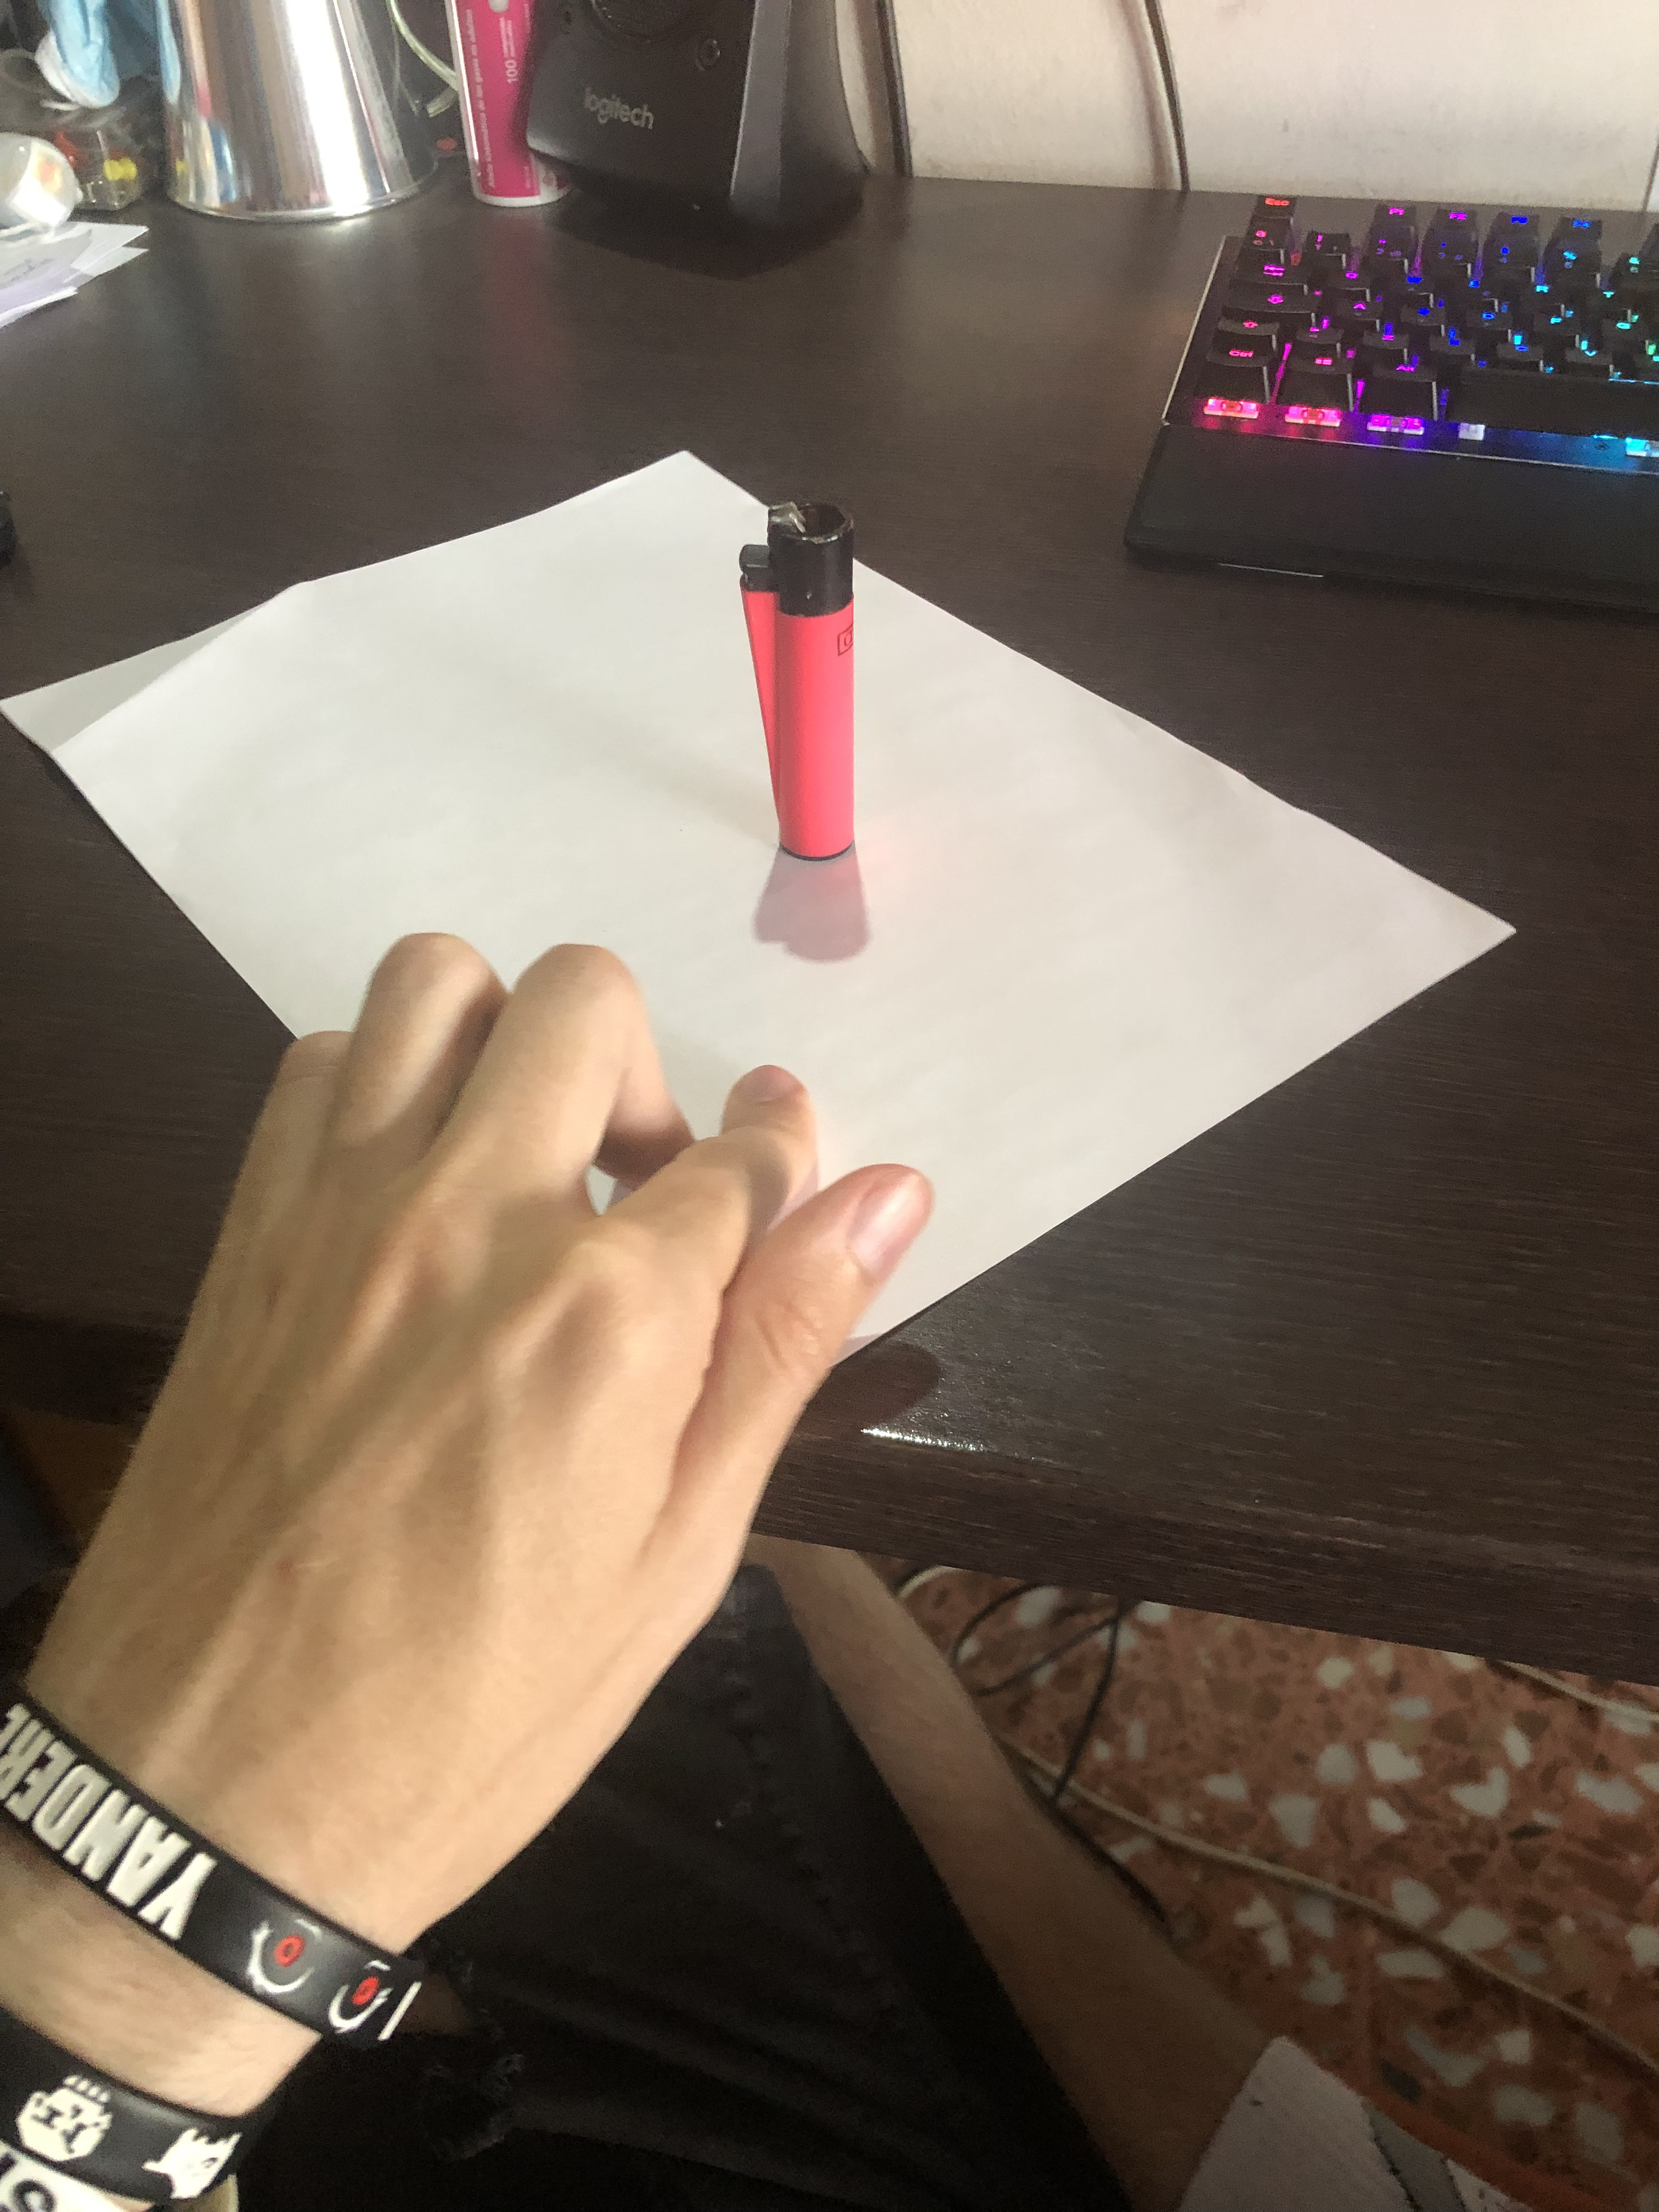Mechero: (706, 481, 915, 880)
